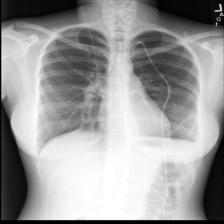normal: (32, 21, 204, 158)
